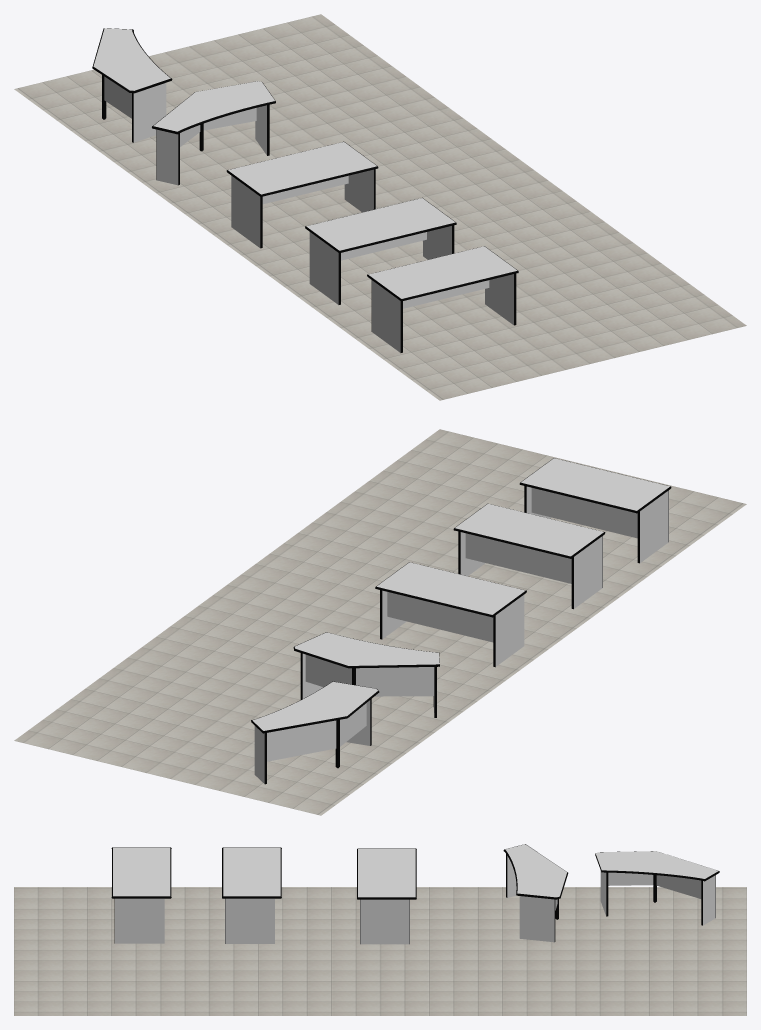
The model's file is scrivaniepavimento.gltf.
The picture shows the model from 3 angles, top to bottom: view 1: azimuth 30°, elevation 25°; view 2: azimuth 150°, elevation 25°; view 3: azimuth 270°, elevation 25°; orthographic projection. The views are drawn at different scales.
Parts seen in each view (by area): view 1: Pavimento, Lorenzo Scrivania, Copia Scrivania, Ciro Scrivania, Bianco Scrivania, Lello Scrivania; view 2: Pavimento, Copia Scrivania, Ciro Scrivania, Lorenzo Scrivania, Lello Scrivania, Bianco Scrivania; view 3: Pavimento, Lorenzo Scrivania, Copia Scrivania, Ciro Scrivania, Lello Scrivania, Bianco Scrivania.
Part boxes in pixels (bbox=[...]): Pavimento: bbox=[14, 14, 746, 400]; Lorenzo Scrivania: bbox=[367, 246, 518, 352]; Copia Scrivania: bbox=[226, 141, 378, 248]; Ciro Scrivania: bbox=[305, 197, 456, 304]; Bianco Scrivania: bbox=[152, 81, 275, 185]; Lello Scrivania: bbox=[92, 28, 172, 142]; Pavimento: bbox=[14, 429, 746, 815]; Copia Scrivania: bbox=[375, 562, 526, 667]; Ciro Scrivania: bbox=[453, 503, 605, 609]; Lorenzo Scrivania: bbox=[519, 458, 671, 563]; Lello Scrivania: bbox=[251, 681, 379, 784]; Bianco Scrivania: bbox=[293, 632, 439, 717]; Pavimento: bbox=[14, 887, 746, 1015]; Lorenzo Scrivania: bbox=[111, 847, 171, 943]; Copia Scrivania: bbox=[357, 848, 416, 944]; Ciro Scrivania: bbox=[222, 847, 281, 943]; Lello Scrivania: bbox=[595, 851, 719, 925]; Bianco Scrivania: bbox=[503, 844, 568, 942].
Bounding box in the file's own units: 4.25 × 0.7475 × 10.2.
Materials: 3 (1 with a texture image).
